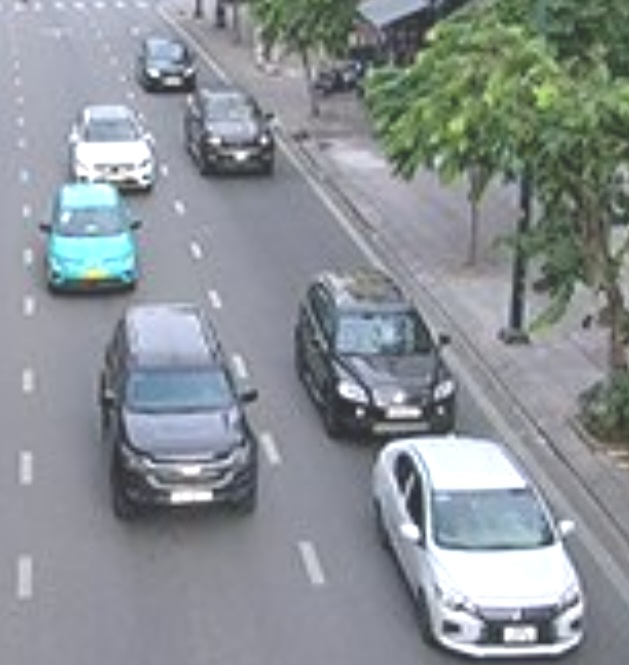car: (373, 438, 581, 652), (99, 302, 262, 517), (291, 275, 458, 440), (48, 184, 139, 294), (185, 87, 276, 176), (67, 105, 157, 192), (135, 35, 196, 92)
